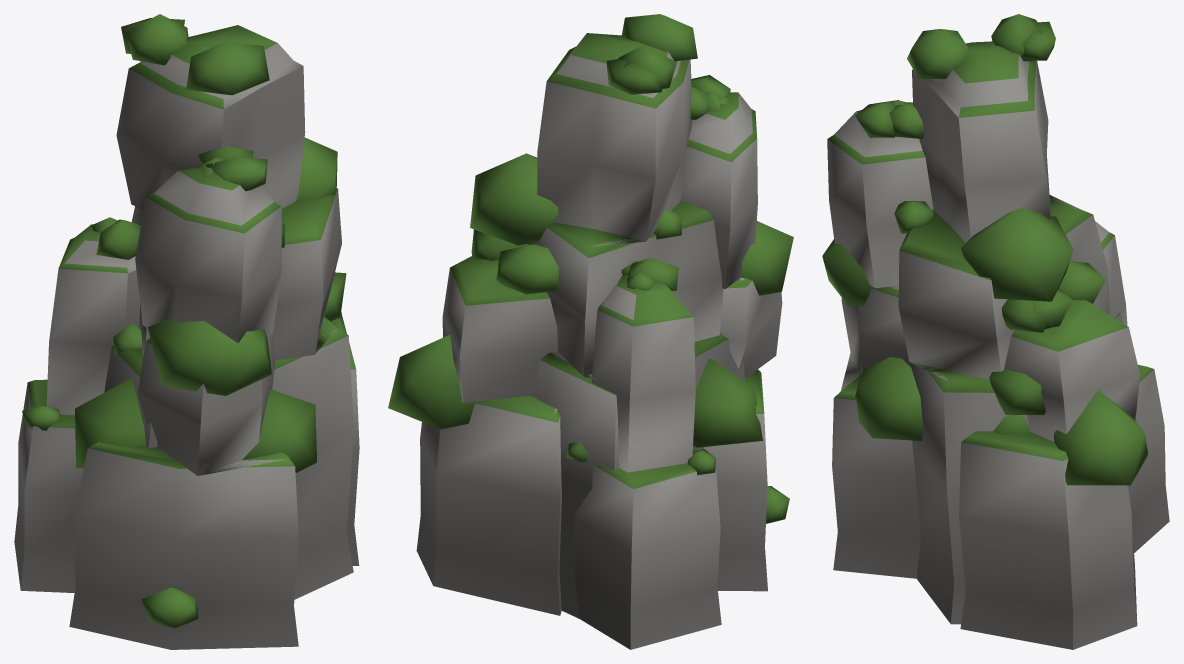
Rendered from two_heights_head_s_lod1.glb.
3 renders of one model, left to right at view 1: azimuth 30°, elevation 25°; view 2: azimuth 150°, elevation 25°; view 3: azimuth 270°, elevation 25°, orthographic. The views are drawn at different scales.
Parts seen in each view (by area): view 1: two_heights_head_s_lod1; view 2: two_heights_head_s_lod1; view 3: two_heights_head_s_lod1.
Part boxes in pixels (left/top/right/bottom): two_heights_head_s_lod1: left=14, top=14, right=359, bottom=649; two_heights_head_s_lod1: left=388, top=14, right=793, bottom=649; two_heights_head_s_lod1: left=822, top=14, right=1169, bottom=649.
Bounding box in the file's own units: 52.3 × 86.6 × 50.71.
